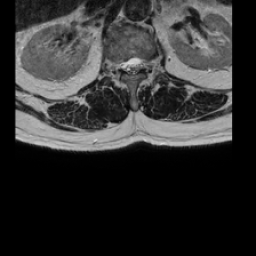CCS_normal: (128, 50, 136, 80)
LFS_normal: (143, 52, 149, 74)
LLS_normal: (136, 51, 143, 76)
RFS_normal: (114, 53, 122, 73)
RLS_normal: (122, 52, 128, 75)
